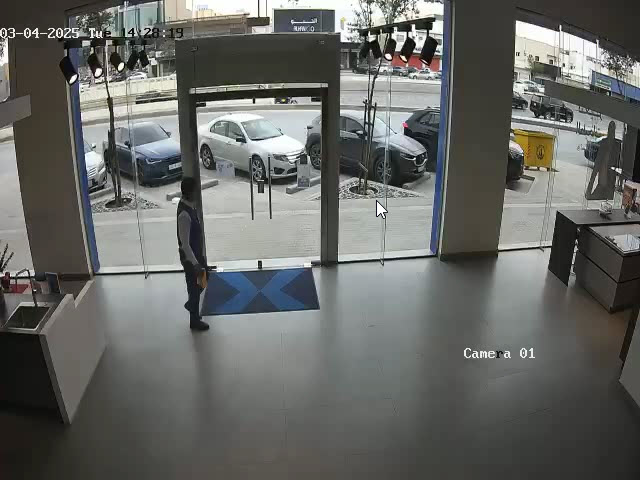employee: (176, 175, 210, 331)
